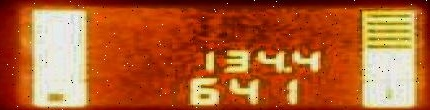-: (281, 64, 292, 73)
1: (276, 75, 299, 104), (195, 47, 216, 71)
3: (221, 47, 250, 72)
4: (227, 75, 258, 104), (289, 47, 320, 71), (253, 47, 281, 72)
6: (185, 73, 219, 106)
